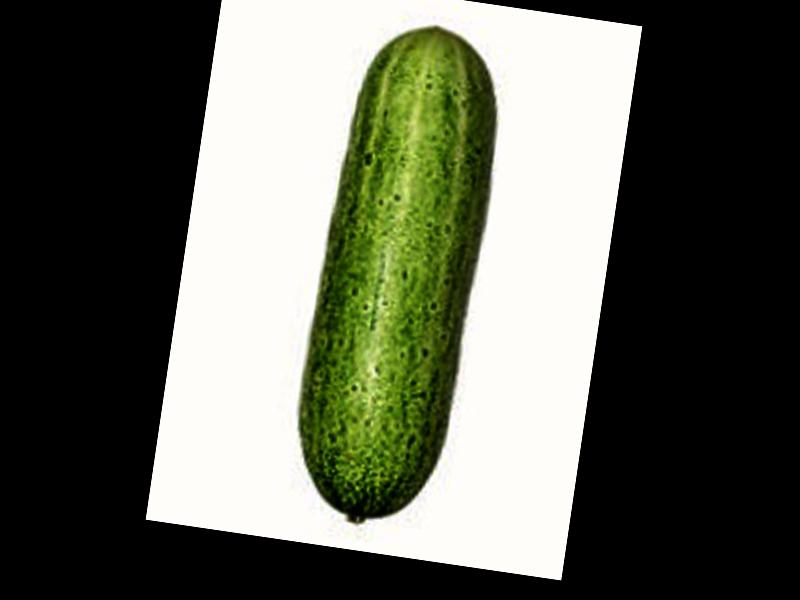Cucumber: (285, 15, 508, 534)
